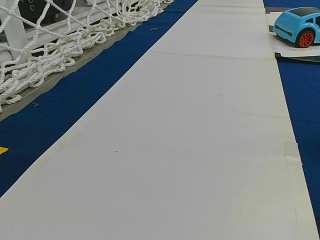car: (274, 7, 319, 46)
